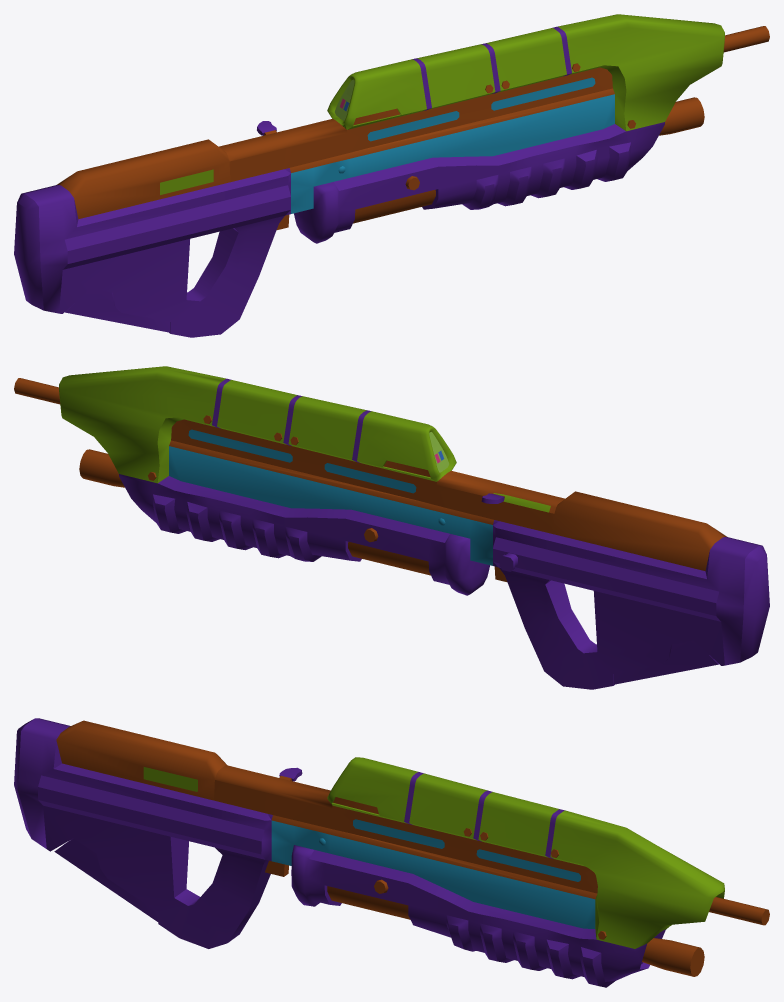
The model's file is assault_rifle.obj.
The picture shows the model from 3 angles, top to bottom: view 1: azimuth 30°, elevation 25°; view 2: azimuth 150°, elevation 25°; view 3: azimuth 330°, elevation 25°; orthographic projection.
Visible parts, largest first — view 1: assault_rifle_assault_rifle_assault_rifle_rubber), assault_rifle_assault_rifle_assault_rifle_env), assault_rifle_assault_rifle_assault_rifle, assault_rifle_assault_rifle_assault_rifle); view 2: assault_rifle_assault_rifle_assault_rifle_rubber), assault_rifle_assault_rifle_assault_rifle_env), assault_rifle_assault_rifle_assault_rifle, assault_rifle_assault_rifle_assault_rifle); view 3: assault_rifle_assault_rifle_assault_rifle_rubber), assault_rifle_assault_rifle_assault_rifle_env), assault_rifle_assault_rifle_assault_rifle, assault_rifle_assault_rifle_assault_rifle).
Boxes of the visible parts, x1,y1,x2,y2 form: assault_rifle_assault_rifle_assault_rifle_rubber): [14, 26, 664, 337]; assault_rifle_assault_rifle_assault_rifle_env): [160, 14, 724, 194]; assault_rifle_assault_rifle_assault_rifle: [57, 26, 769, 229]; assault_rifle_assault_rifle_assault_rifle): [291, 77, 614, 213]; assault_rifle_assault_rifle_assault_rifle_rubber): [119, 378, 769, 689]; assault_rifle_assault_rifle_assault_rifle_env): [59, 366, 550, 512]; assault_rifle_assault_rifle_assault_rifle: [14, 378, 726, 581]; assault_rifle_assault_rifle_assault_rifle): [169, 429, 492, 565]; assault_rifle_assault_rifle_assault_rifle_rubber): [14, 718, 665, 987]; assault_rifle_assault_rifle_assault_rifle_env): [143, 757, 724, 948]; assault_rifle_assault_rifle_assault_rifle: [56, 720, 769, 976]; assault_rifle_assault_rifle_assault_rifle): [271, 819, 595, 928].
Bounding box in the file's own units: 3.24 × 0.9193 × 0.2916.
